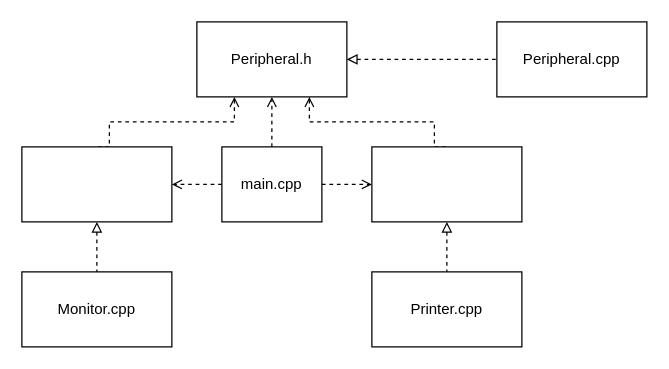
Some shapes in this 669 by 369 pixel diagram are drawn without their labels. The centre of each missing label's shape, as x and y in pixels:
Monitor.h: (x=96, y=184)
Printer.h: (x=446, y=184)
